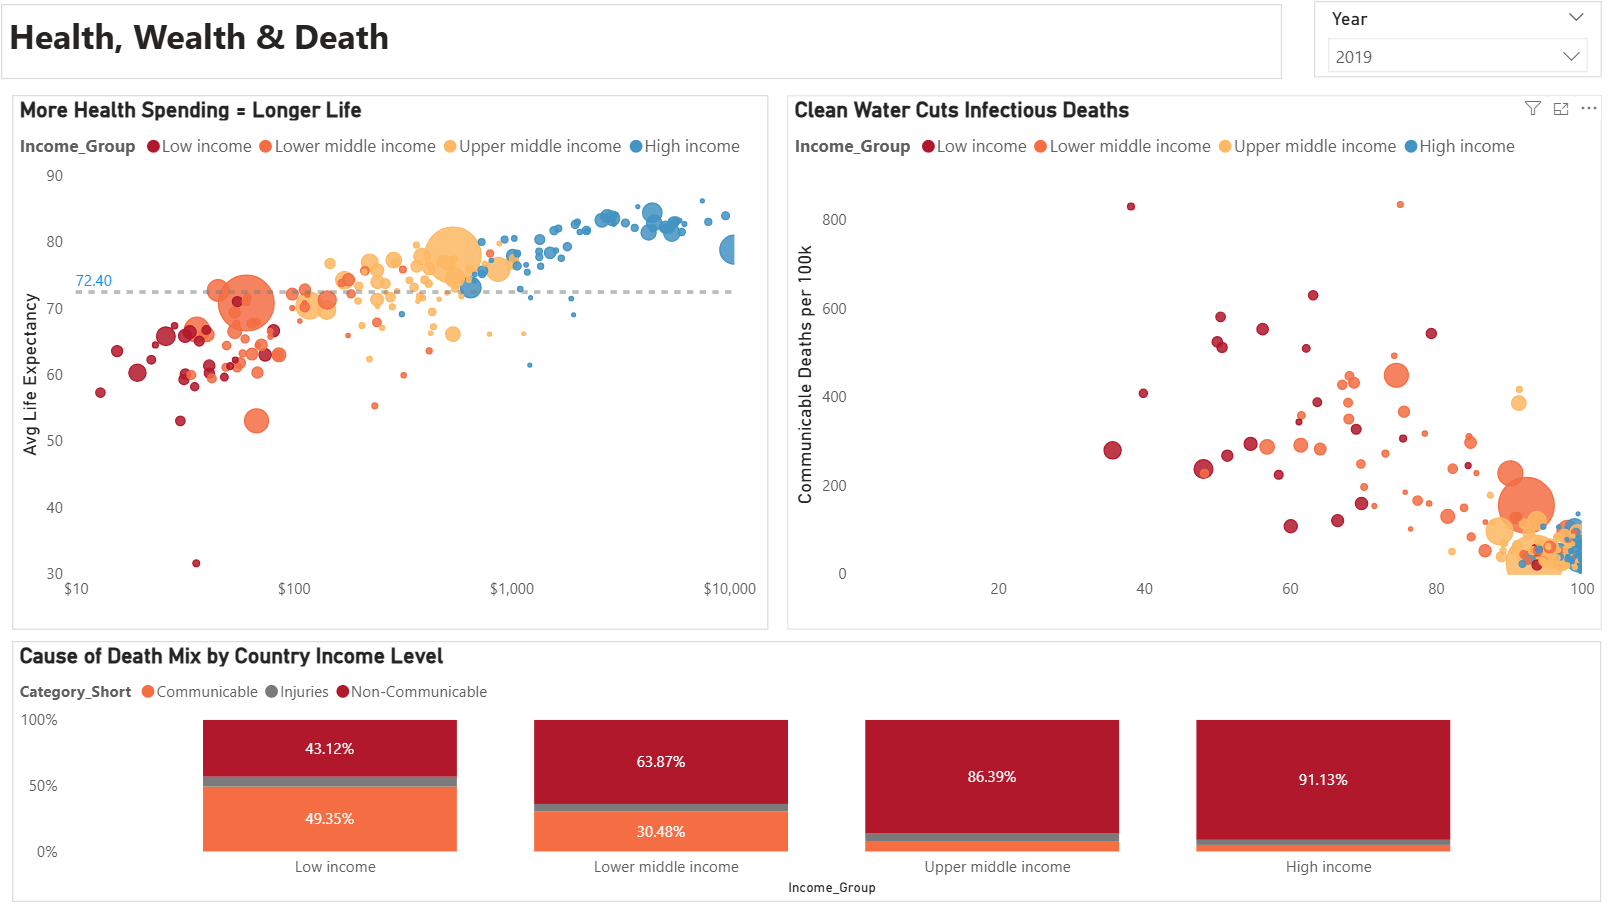

This screenshot's page, from the dashboard's own definition file:
{"tool":"powerbi","page":{"name":"Health & Wealth","canvas":[1280,720],"ordinal":3},"visuals":[{"type":"textbox","box":[10.4,6,1005.7,58.7],"z":0},{"type":"slicer","fields":{"Values":["Dim_Year.Year"]},"box":[1041.1,4.3,226,60.4],"z":1000},{"type":"scatterChart","title":"More Health Spending = Longer Life","fields":{"Category":["Dim_Country.Country"],"X":["_Measures.Avg Health Spend per Capita"],"Y":["_Measures.Avg Life Expectancy"],"Series":["Dim_Country.Income_Group"],"Size":["_Measures.Population"]},"box":[19,77.6,594.3,420.1],"z":2000},{"type":"scatterChart","title":"Clean Water Cuts Infectious Deaths","fields":{"Category":["Dim_Country.Country"],"Series":["Dim_Country.Income_Group"],"Size":["_Measures.Population"],"X":["_Measures.Avg Water Access %"],"Y":["_Measures.Communicable Deaths per 100k"]},"box":[627.4,77.8,640,420.2],"z":3000},{"type":"hundredPercentStackedColumnChart","title":"Cause of Death Mix by Country Income Level","fields":{"Category":["Dim_Country.Income_Group"],"Series":["Dim_Cause.Category_Short"],"Y":["_Measures.Total Deaths"]},"box":[19,506.3,1248.1,205.3],"z":4000}]}

Visuals, with their boxes in screenshot pixels (x1, y1, x2, y2), scaled from the page's 1280x720 canvas onto the 1609x906 screenshot:
textbox: {"left": 13, "top": 8, "right": 1277, "bottom": 81}
slicer - Dim_Year.Year: {"left": 1309, "top": 5, "right": 1593, "bottom": 81}
"More Health Spending = Longer Life" scatterChart: {"left": 24, "top": 98, "right": 771, "bottom": 626}
"Clean Water Cuts Infectious Deaths" scatterChart: {"left": 789, "top": 98, "right": 1593, "bottom": 627}
"Cause of Death Mix by Country Income Level" hundredPercentStackedColumnChart: {"left": 24, "top": 637, "right": 1593, "bottom": 895}
